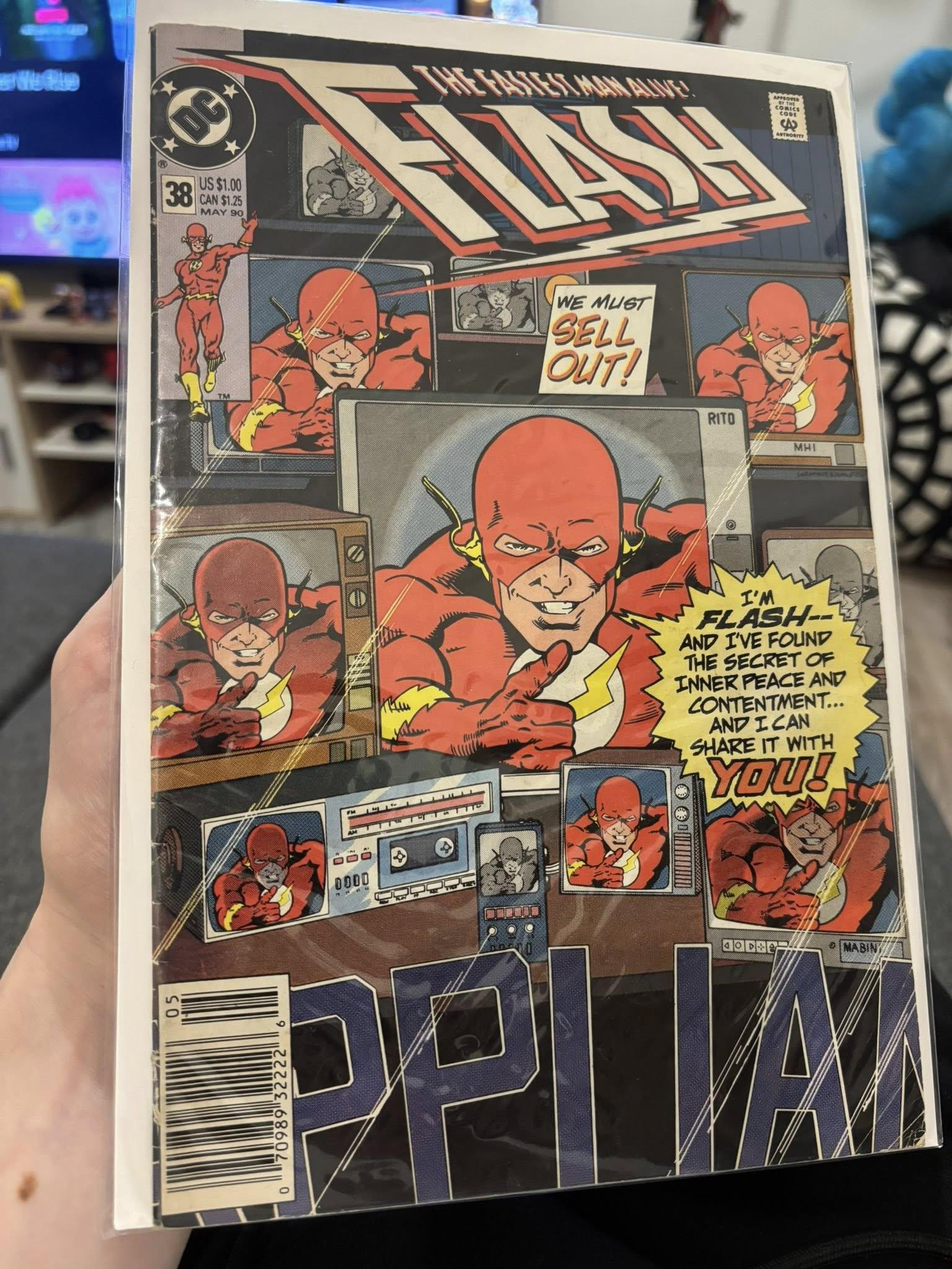comic: (115, 0, 938, 1227)
